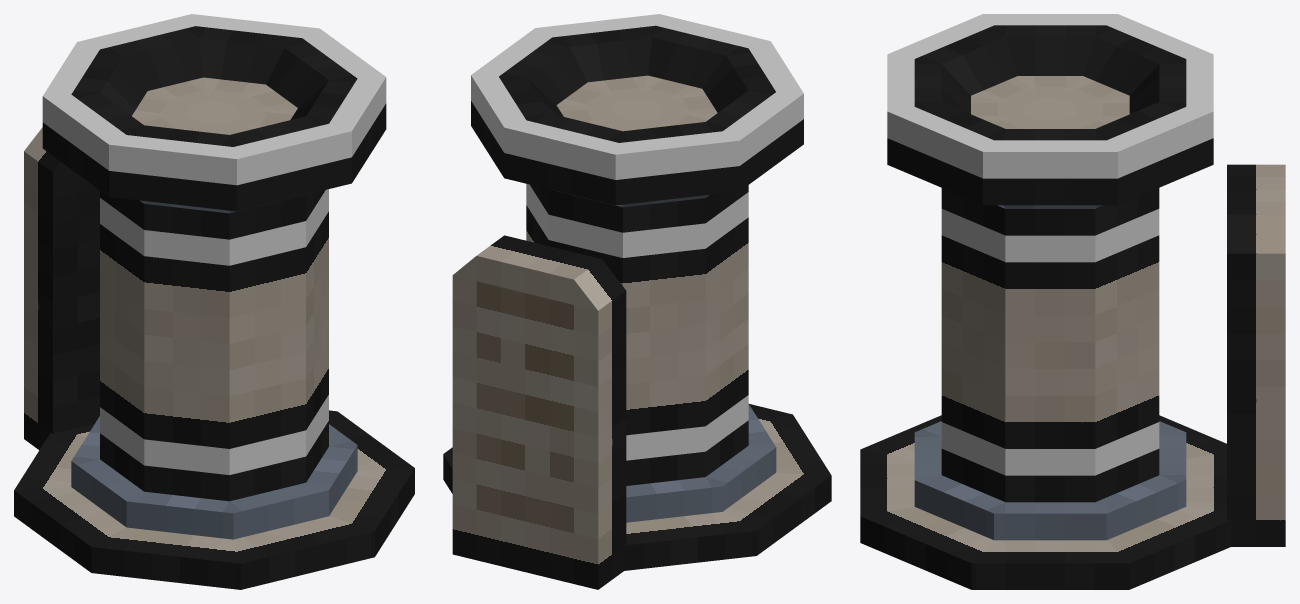
The model's file is pedestal_inventory.obj.
3 renders of one model, left to right at view 1: azimuth 30°, elevation 25°; view 2: azimuth 150°, elevation 25°; view 3: azimuth 270°, elevation 25°, orthographic. The views are drawn at different scales.
Visible parts, largest first — view 1: PEDESTAL_Cylinder.001, SIGN_Cube.001; view 2: PEDESTAL_Cylinder.001, SIGN_Cube.001; view 3: PEDESTAL_Cylinder.001, SIGN_Cube.001.
Boxes of the visible parts, box(x1,y1,x2,y2) form: PEDESTAL_Cylinder.001: box(14, 14, 414, 589); SIGN_Cube.001: box(24, 127, 99, 450); PEDESTAL_Cylinder.001: box(443, 14, 831, 570); SIGN_Cube.001: box(452, 235, 626, 589); PEDESTAL_Cylinder.001: box(860, 14, 1230, 589); SIGN_Cube.001: box(1227, 164, 1285, 546).
Size of the model in its own units: 0.8084 by 1 by 0.9042.
